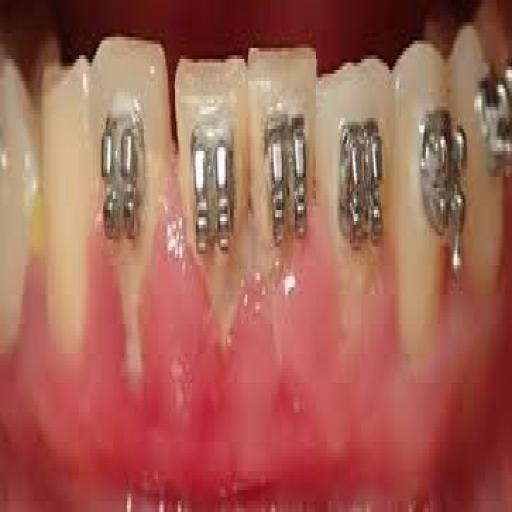correct_brace: (334, 100, 388, 274), (420, 103, 466, 286), (262, 112, 314, 254), (187, 120, 236, 260), (102, 102, 146, 239)
incorrect_brace: (91, 41, 169, 301), (316, 50, 396, 298)
